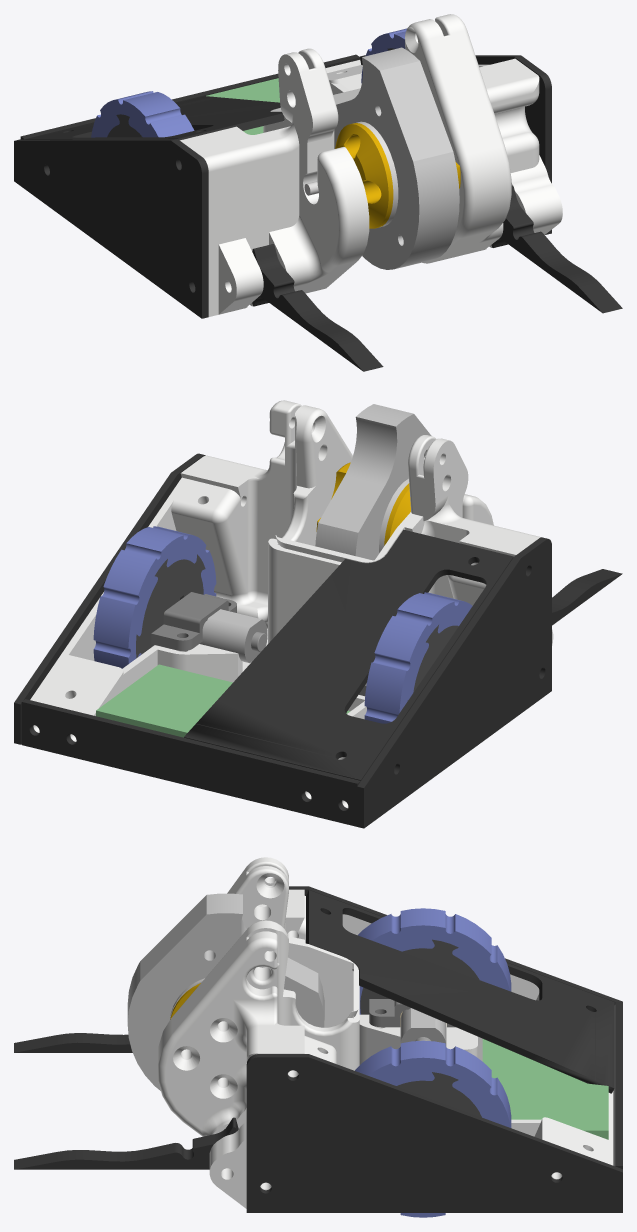
The model's file is antweight.glb.
The picture shows the model from 3 angles, top to bottom: view 1: azimuth 30°, elevation 25°; view 2: azimuth 150°, elevation 25°; view 3: azimuth 270°, elevation 25°; orthographic projection.
Visible parts, largest first — view 1: Velvienis, Velvienis.001; view 2: Velvienis, Velvienis.001; view 3: Velvienis, Velvienis.001.
Boxes of the visible parts, x1,y1,x2,y2 form: Velvienis: (14, 14, 622, 371); Velvienis.001: (26, 96, 284, 140); Velvienis: (14, 400, 622, 828); Velvienis.001: (184, 529, 513, 780); Velvienis: (14, 857, 622, 1217); Velvienis.001: (306, 890, 614, 1093).
Bounding box in the file's own units: 10.43 × 7.07 × 15.7.
